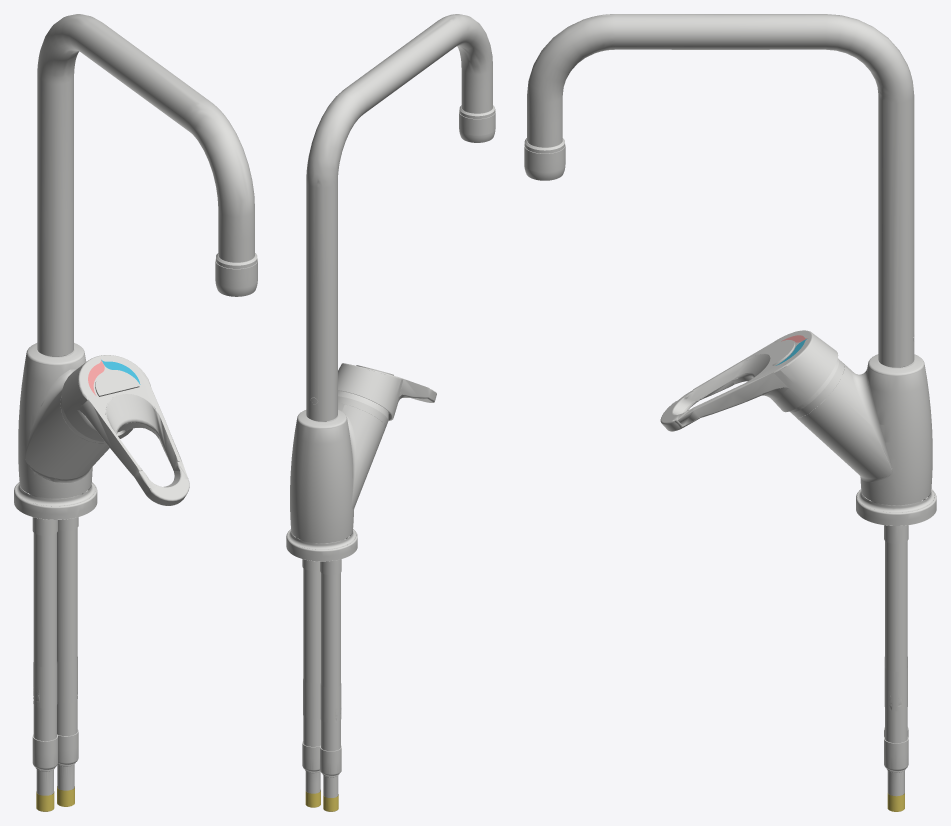
The picture shows the model from 3 angles, left to right: view 1: azimuth 30°, elevation 25°; view 2: azimuth 150°, elevation 25°; view 3: azimuth 270°, elevation 25°; orthographic projection. The views are drawn at different scales.
Parts seen in each view (by area): view 1: Geom3D (×14); view 2: Geom3D (×13); view 3: Geom3D (×8).
Part boxes in pixels (<box>): Geom3D (×14): <box>14,14,257,795</box>; Geom3D (×13): <box>286,14,495,775</box>; Geom3D (×8): <box>524,14,936,743</box>.
Size of the model in its own units: 0.092 by 0.9895 by 0.4695.
